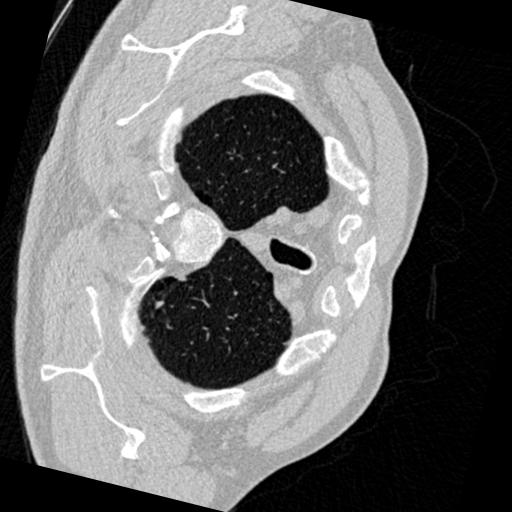nodule: (153, 298, 169, 314)
